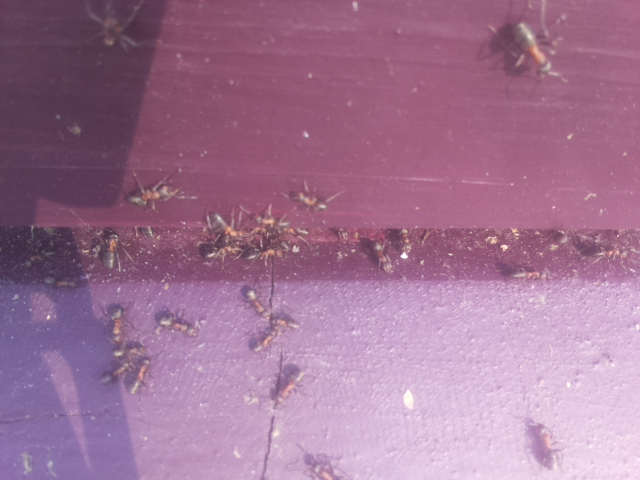ant: (514, 413, 573, 476), (502, 14, 557, 81), (91, 0, 145, 54), (117, 174, 184, 215), (232, 278, 280, 327), (200, 206, 255, 244), (269, 360, 309, 409), (361, 233, 400, 279), (149, 305, 201, 339), (249, 314, 290, 356), (95, 227, 127, 277), (286, 189, 335, 214), (126, 354, 153, 396), (42, 271, 80, 292)
